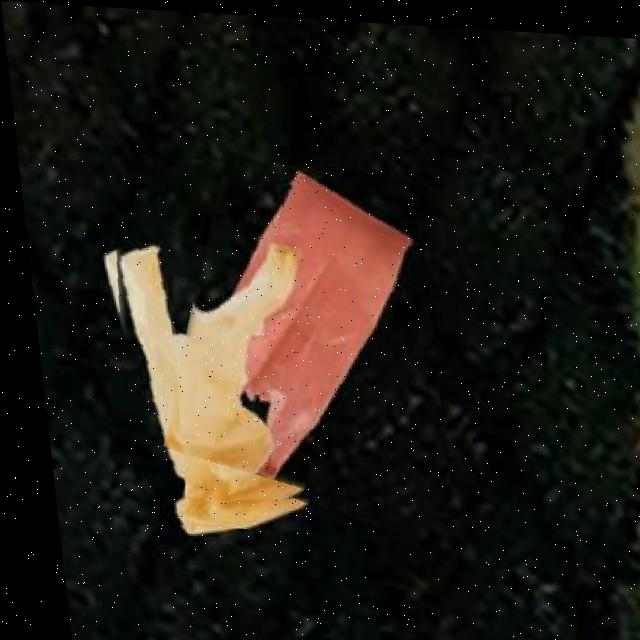plasticcover: (144, 154, 441, 512), (91, 216, 318, 530)
